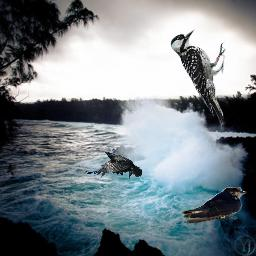Crow: (83, 151, 142, 180)
Swallow: (182, 187, 247, 223)
Woodpecker: (169, 29, 227, 133)
